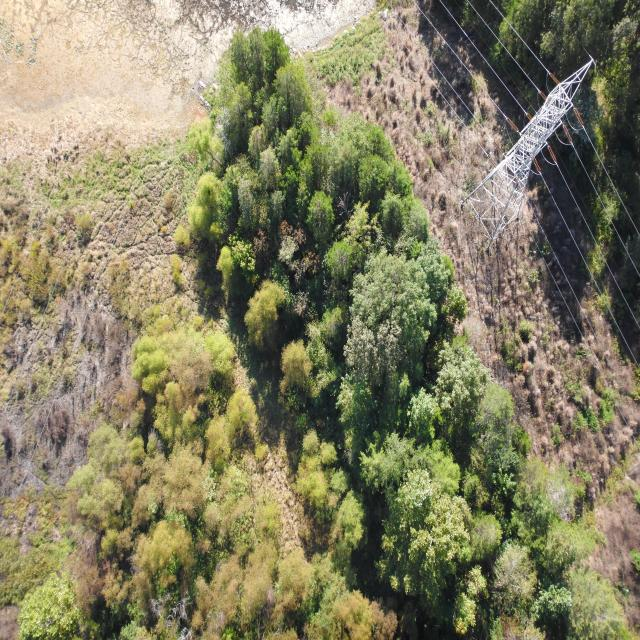Area of Interest: (35, 32, 627, 630)
